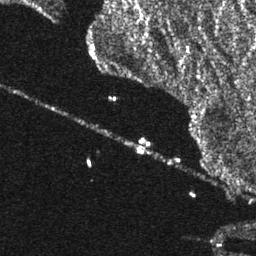ship: (138, 136, 151, 147), (85, 157, 92, 168), (188, 191, 196, 198)
